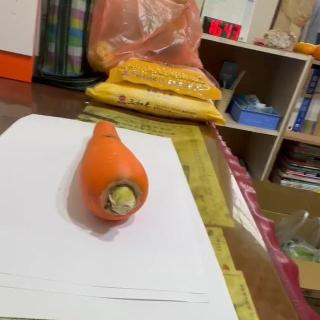carrot: (75, 119, 151, 223)
